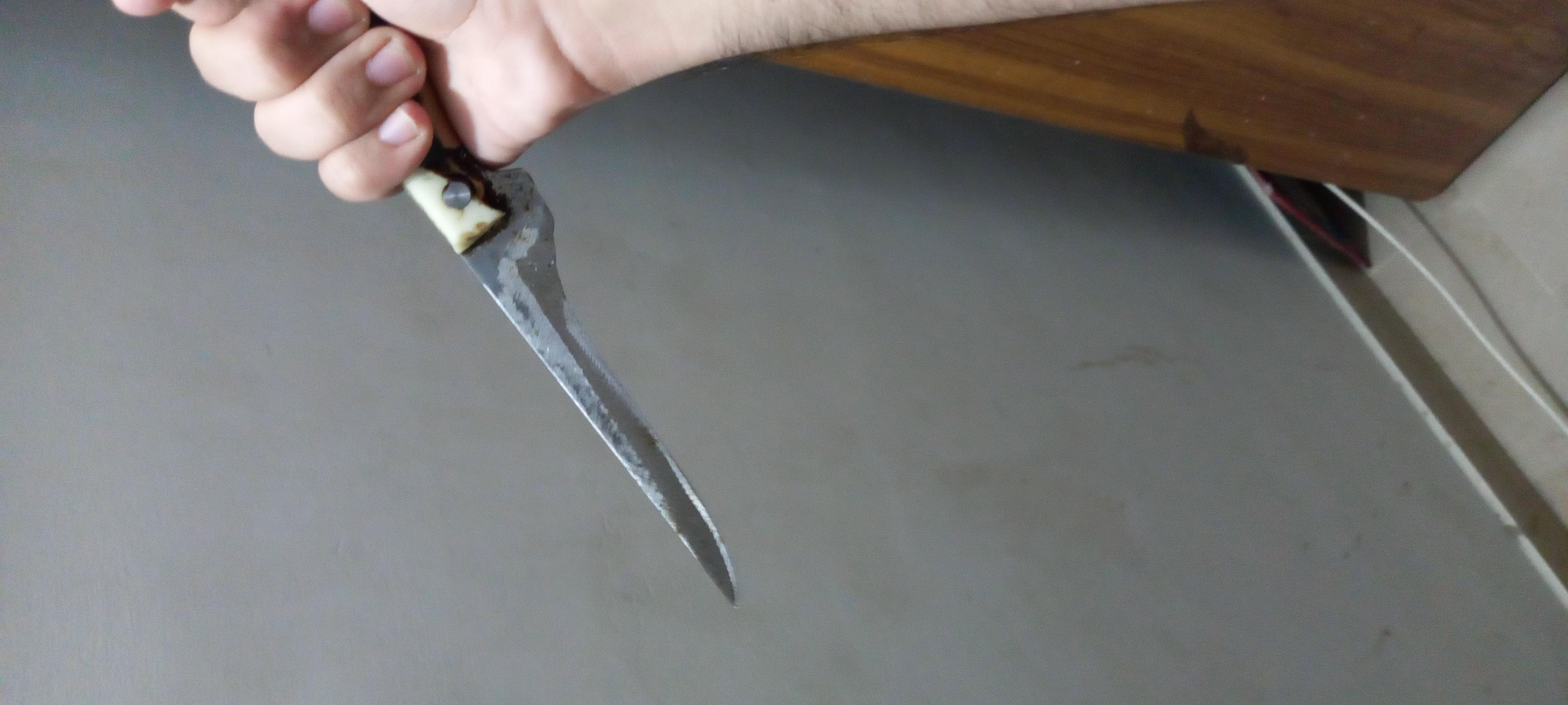knives: (213, 67, 1568, 339)
